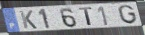1: (38, 8, 52, 30), (97, 6, 109, 26)
6: (59, 7, 79, 29)
G: (117, 4, 139, 25)
K: (19, 10, 38, 30)
T: (78, 7, 94, 27)
